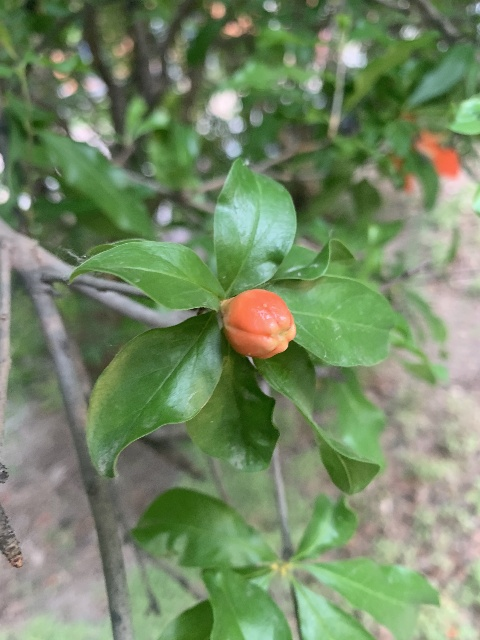bud: (221, 289, 295, 359)
